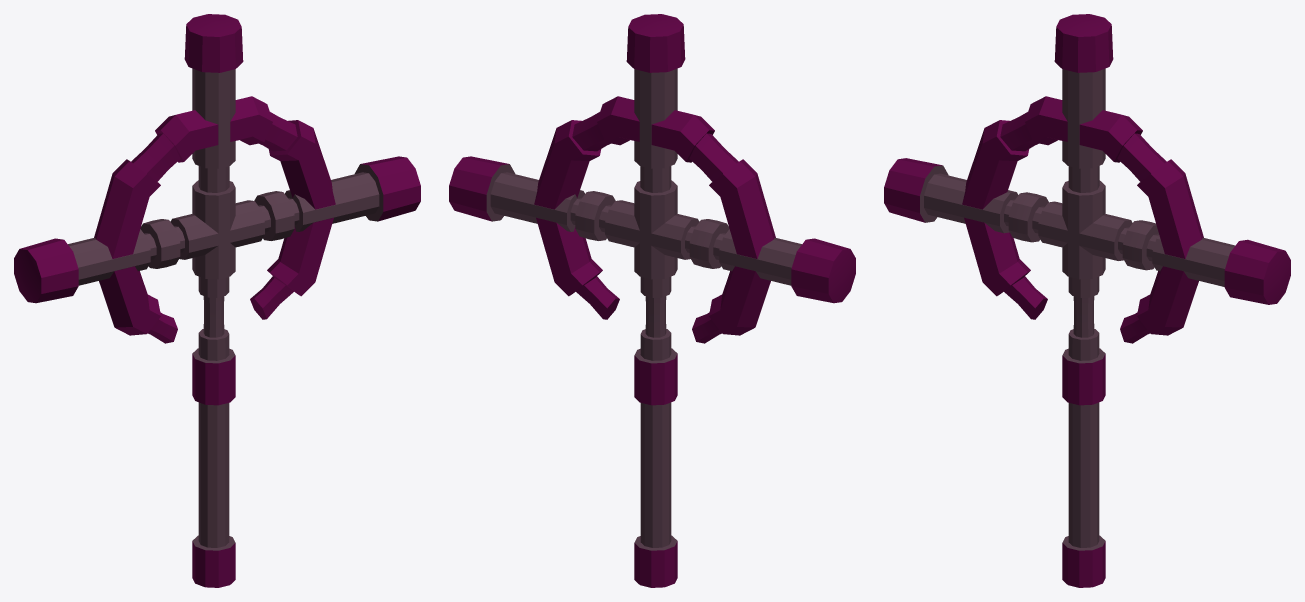
The model's file is relique.fbx.
3 views of the same model, side by side, from view 1: azimuth 30°, elevation 25°; view 2: azimuth 150°, elevation 25°; view 3: azimuth 330°, elevation 25° (orthographic).
Visible parts, largest first — view 1: relique; view 2: relique; view 3: relique.
Boxes of the visible parts, box(x1,y1,x2,y2) form: relique: box(14, 14, 420, 587); relique: box(449, 14, 855, 587); relique: box(884, 14, 1290, 587).
Bounding box in the file's own units: 0.0376 × 0.0519 × 0.00488.
